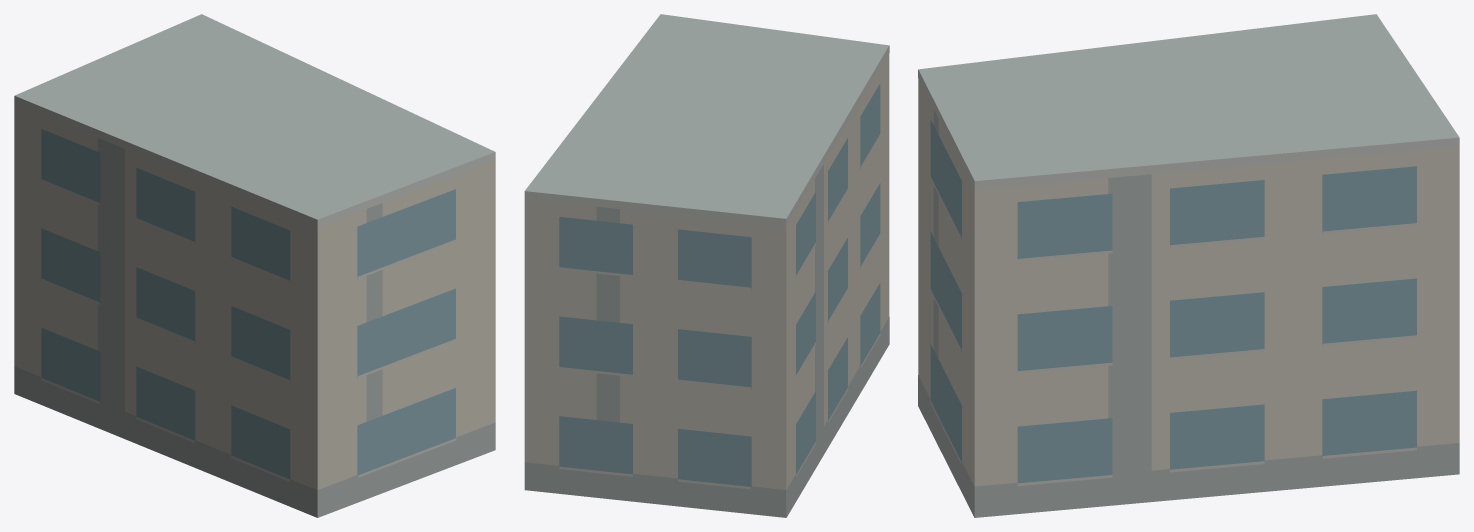
The model's file is residential-93d92071-9824-4bed-9d5c-e7f3a8dbd4f2.glb.
3 views of the same model, side by side, from view 1: azimuth 30°, elevation 25°; view 2: azimuth 150°, elevation 25°; view 3: azimuth 270°, elevation 25° (orthographic). The views are drawn at different scales.
Parts seen in each view (by area): view 1: residential-93d92071-9824-4bed-9d5c-e7f3a8dbd4f2.tmp; view 2: residential-93d92071-9824-4bed-9d5c-e7f3a8dbd4f2.tmp; view 3: residential-93d92071-9824-4bed-9d5c-e7f3a8dbd4f2.tmp.
Boxes of the visible parts, bbox=[...] form: residential-93d92071-9824-4bed-9d5c-e7f3a8dbd4f2.tmp: bbox=[14, 14, 495, 517]; residential-93d92071-9824-4bed-9d5c-e7f3a8dbd4f2.tmp: bbox=[524, 14, 889, 517]; residential-93d92071-9824-4bed-9d5c-e7f3a8dbd4f2.tmp: bbox=[918, 14, 1459, 517].
Size of the model in its own units: 9.75 by 9.15 by 13.35.
